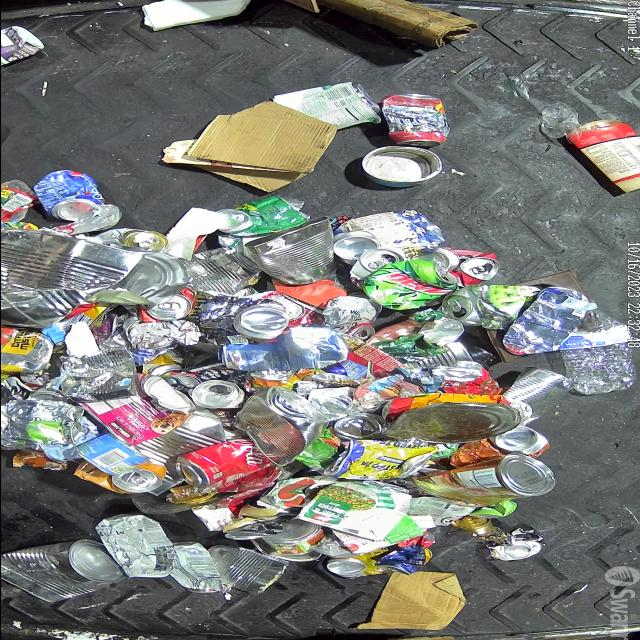can: (0, 226, 145, 329), (76, 372, 194, 447), (0, 539, 128, 603), (412, 453, 556, 508), (230, 385, 325, 467), (242, 217, 338, 286), (330, 208, 444, 266), (270, 81, 380, 131), (361, 259, 458, 311), (173, 437, 266, 489), (56, 347, 138, 403), (322, 440, 434, 481), (448, 425, 550, 468), (178, 246, 262, 296), (209, 544, 285, 595), (32, 170, 106, 222), (380, 93, 450, 147), (216, 194, 310, 234), (359, 144, 442, 188), (6, 400, 85, 446), (72, 432, 150, 477), (331, 545, 431, 578), (168, 542, 230, 594), (421, 247, 501, 287), (73, 460, 167, 494), (439, 286, 515, 328), (502, 367, 574, 404), (259, 518, 323, 556), (348, 250, 406, 290), (485, 528, 546, 562), (232, 304, 288, 340), (191, 380, 254, 410), (90, 228, 168, 252), (143, 286, 195, 322), (224, 514, 292, 541), (327, 557, 373, 579), (448, 518, 494, 540), (160, 372, 204, 394)
plastic_bottle: (559, 302, 633, 395)
